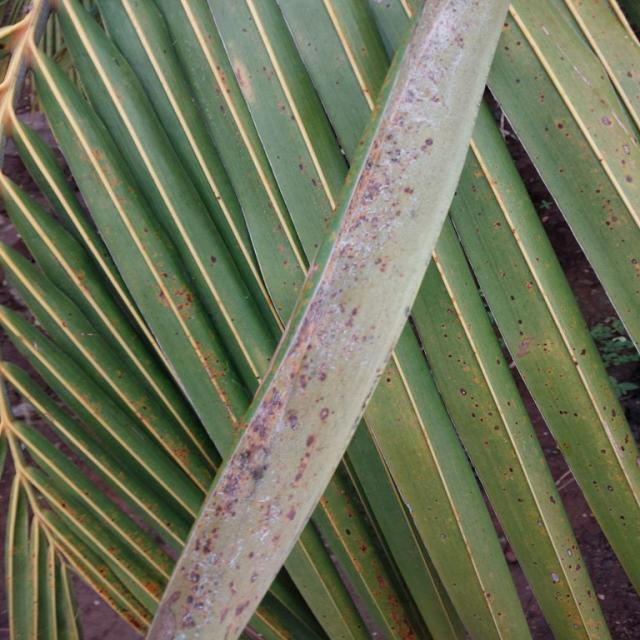gray leaf spot: (148, 2, 510, 640)
